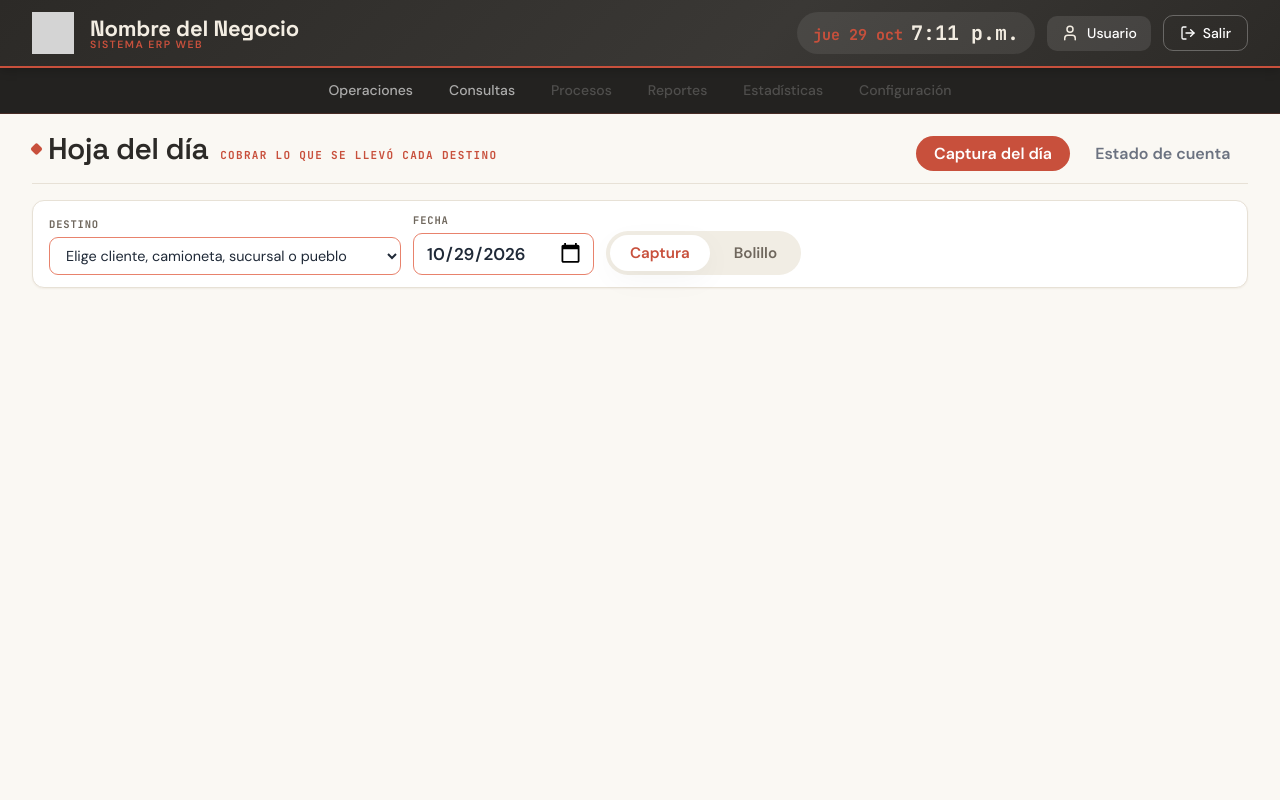
HojaDelDia — cableado › 🔴 + charolas: 10 y luego 5 de bolillo = 240 piezas en ENVIADO; solo en pan por charola
Select "DELI · Sin capturar · $0.00" in the dropdown labelled "Destino": (225, 256) x1=49 y1=237 x2=401 y2=275
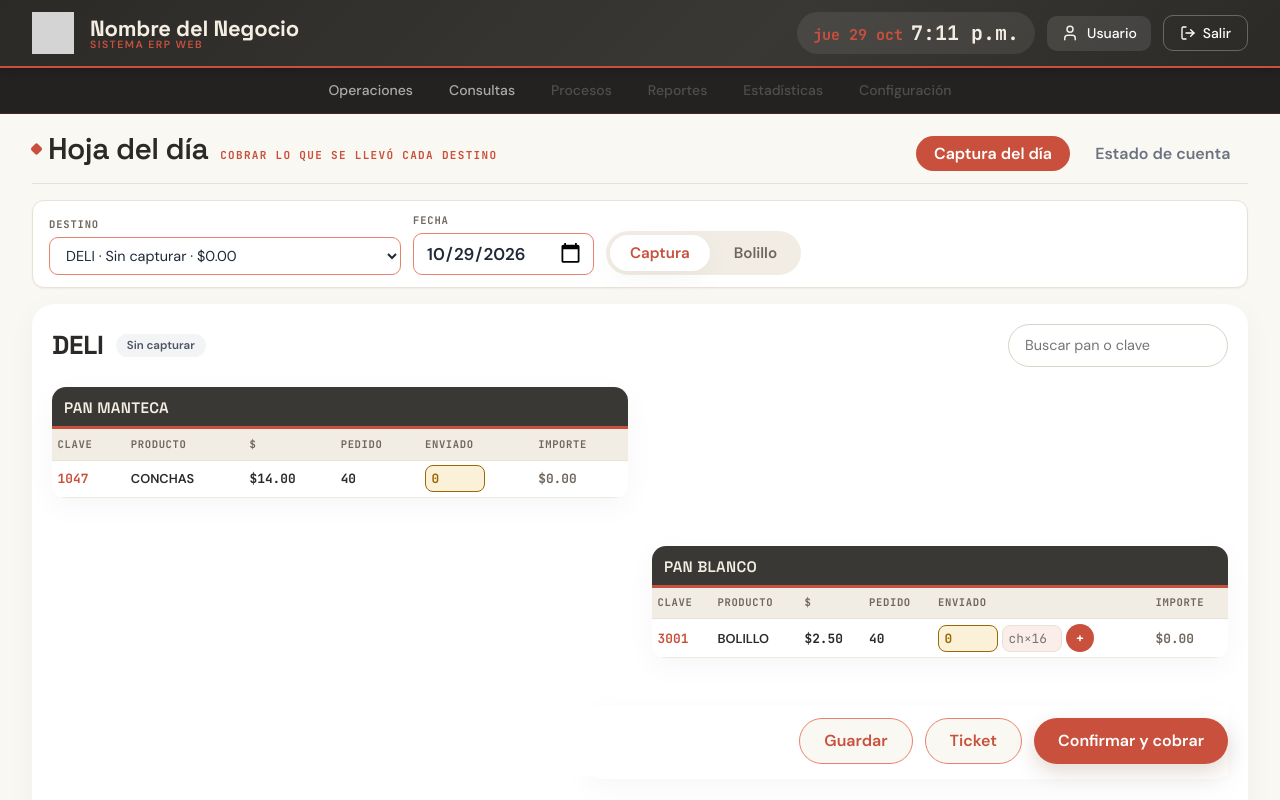
In the number field named "Charolas BOLILLO": (1032, 638) x1=1002 y1=625 x2=1062 y2=652, type "10"
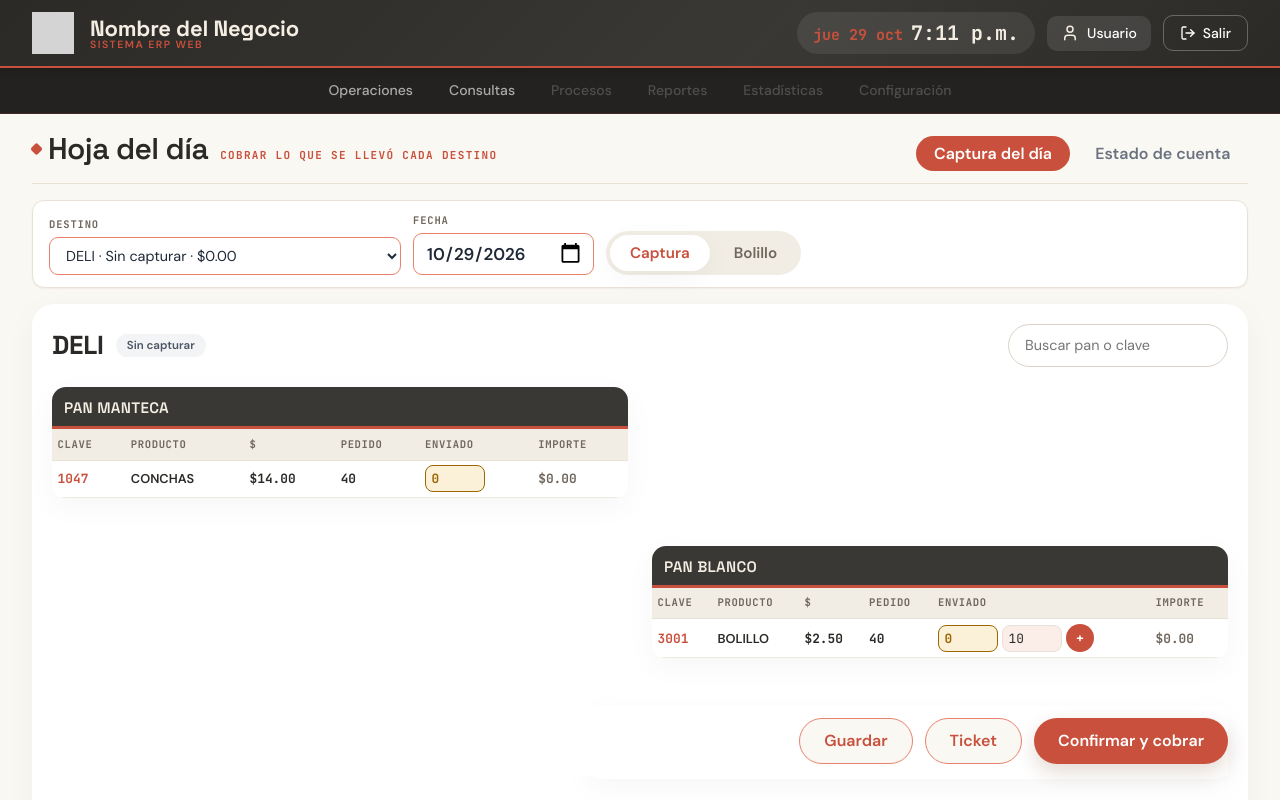
Press Enter in the number field named "Charolas BOLILLO", box x1=1002 y1=625 x2=1062 y2=652
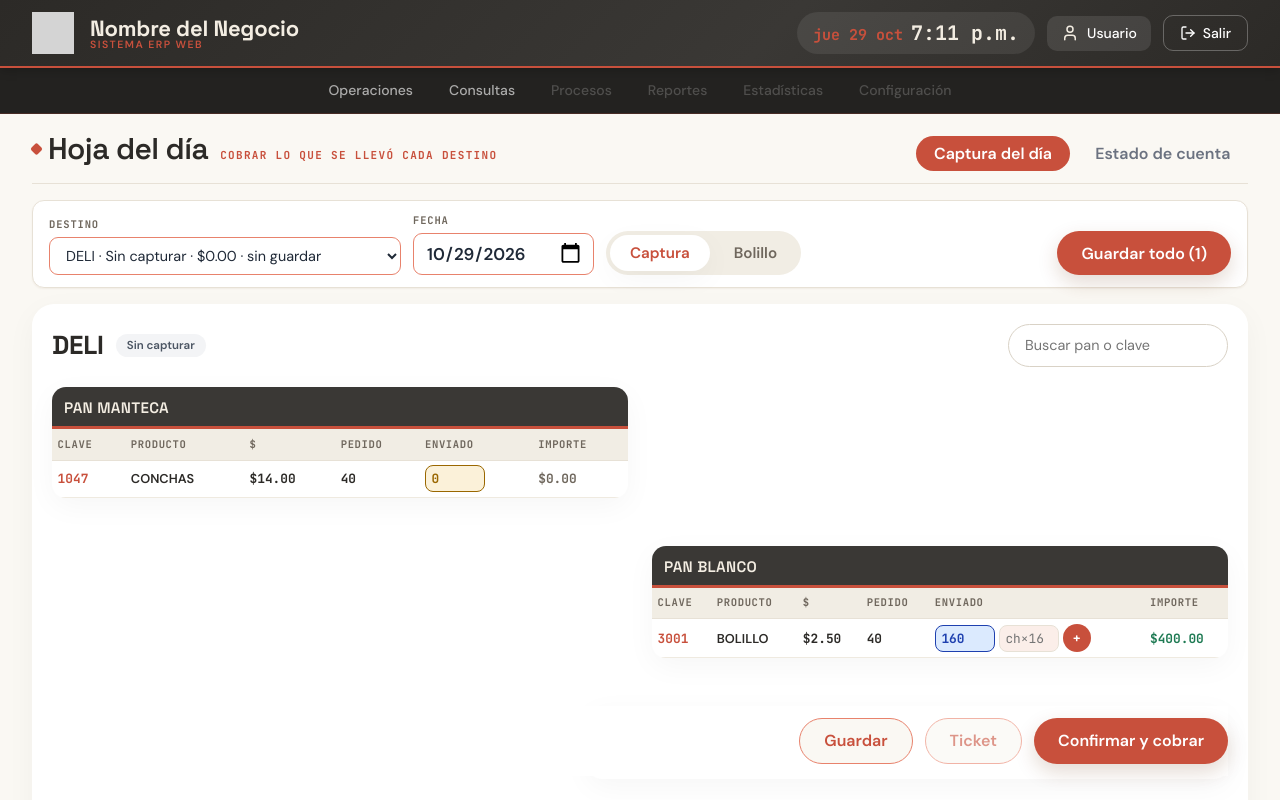
Expected: the number field named "Enviado BOLILLO" holds "160", x1=935 y1=625 x2=995 y2=652
In the number field named "Charolas BOLILLO": (1029, 638) x1=999 y1=625 x2=1059 y2=652, type "5"
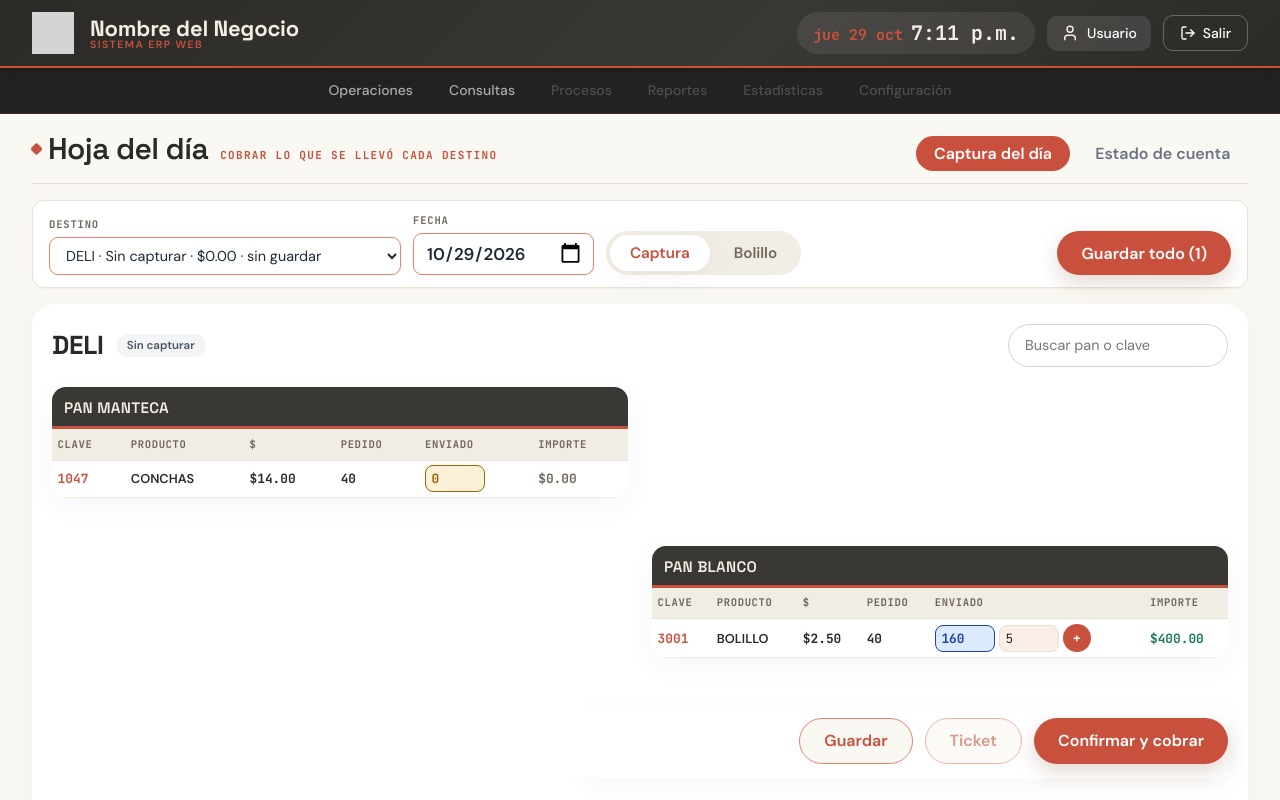
Press Enter in the number field named "Charolas BOLILLO", box x1=999 y1=625 x2=1059 y2=652
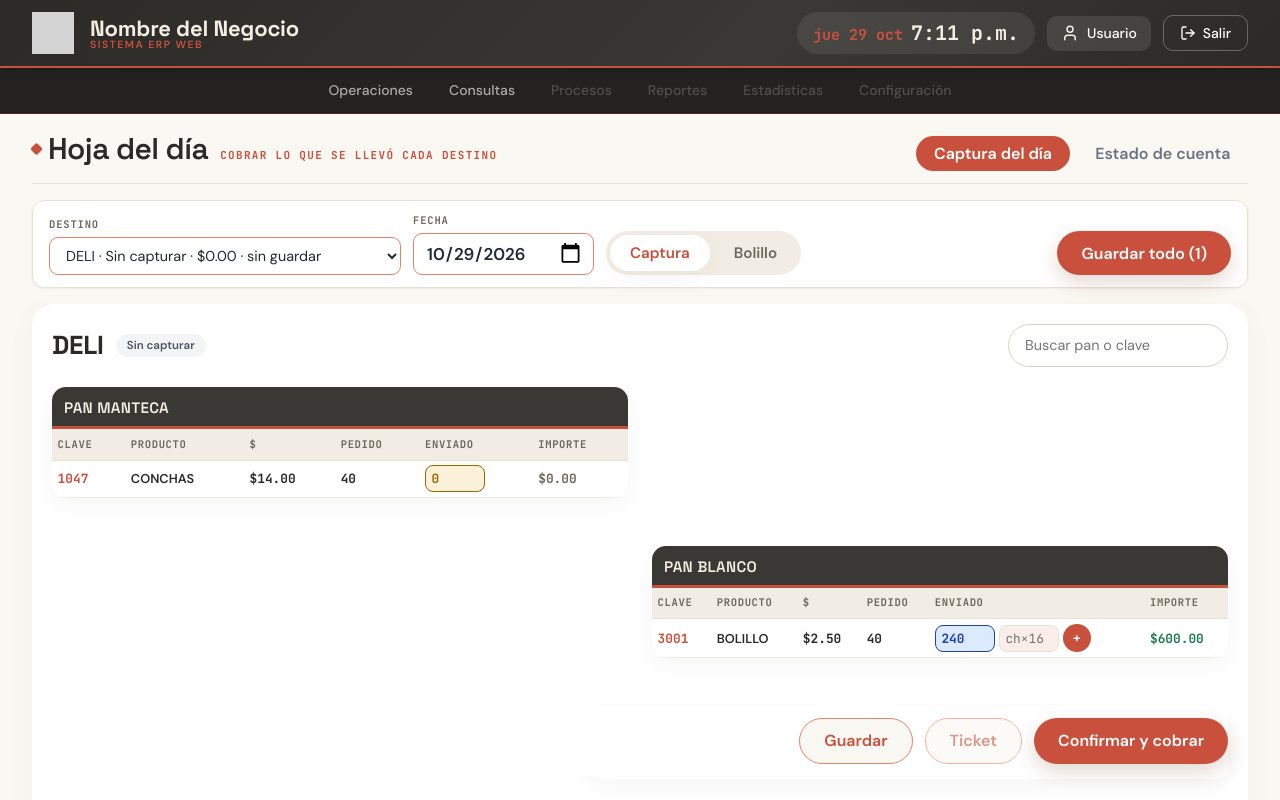
Expected: the number field named "Enviado BOLILLO" holds "240", x1=935 y1=625 x2=995 y2=652
Expected: the number field named "Charolas BOLILLO" is not empty, x1=999 y1=625 x2=1059 y2=652
